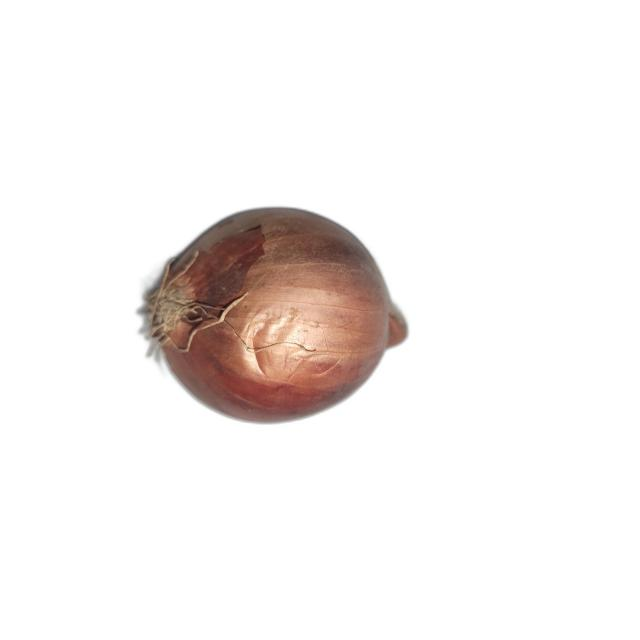onion: (140, 206, 409, 424)
